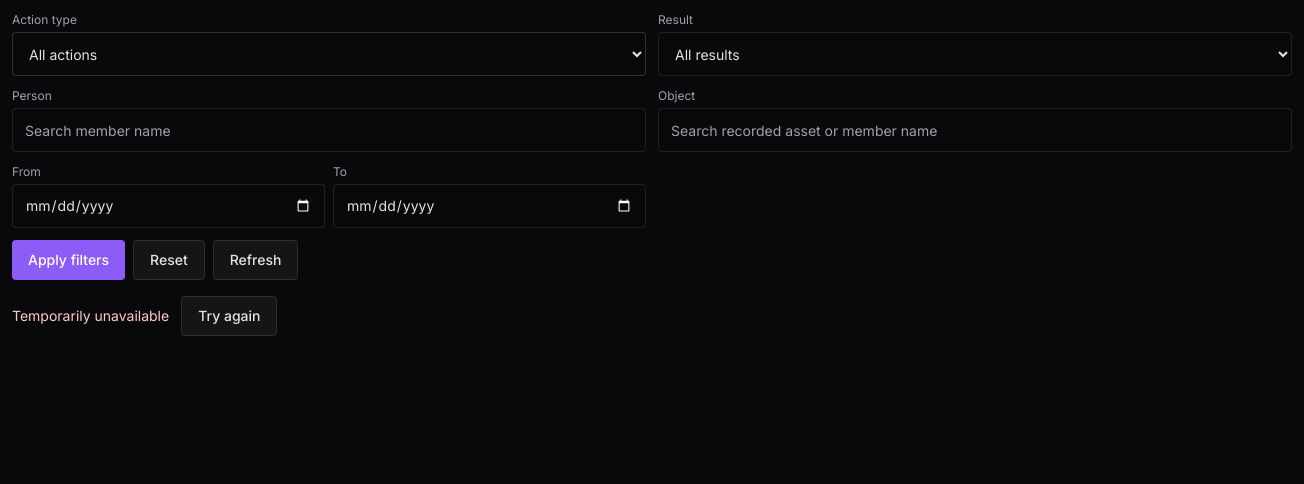
it: Asset feed uses its own endpoint and retains the ability to retry a failed request
Expected: the message shows "Temporarily unavailable", x1=12 y1=307 x2=169 y2=324
Click the button "Try again".
click(229, 316)  # box x1=181 y1=296 x2=278 y2=336
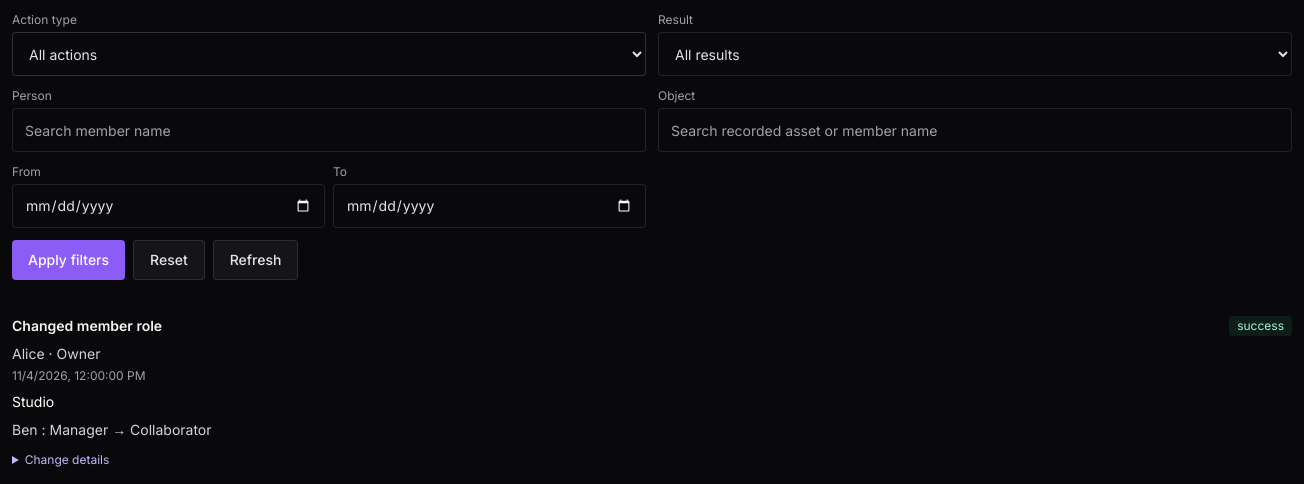
Expected: the text "Alice · Owner" is shown, x1=12 y1=345 x2=100 y2=362
